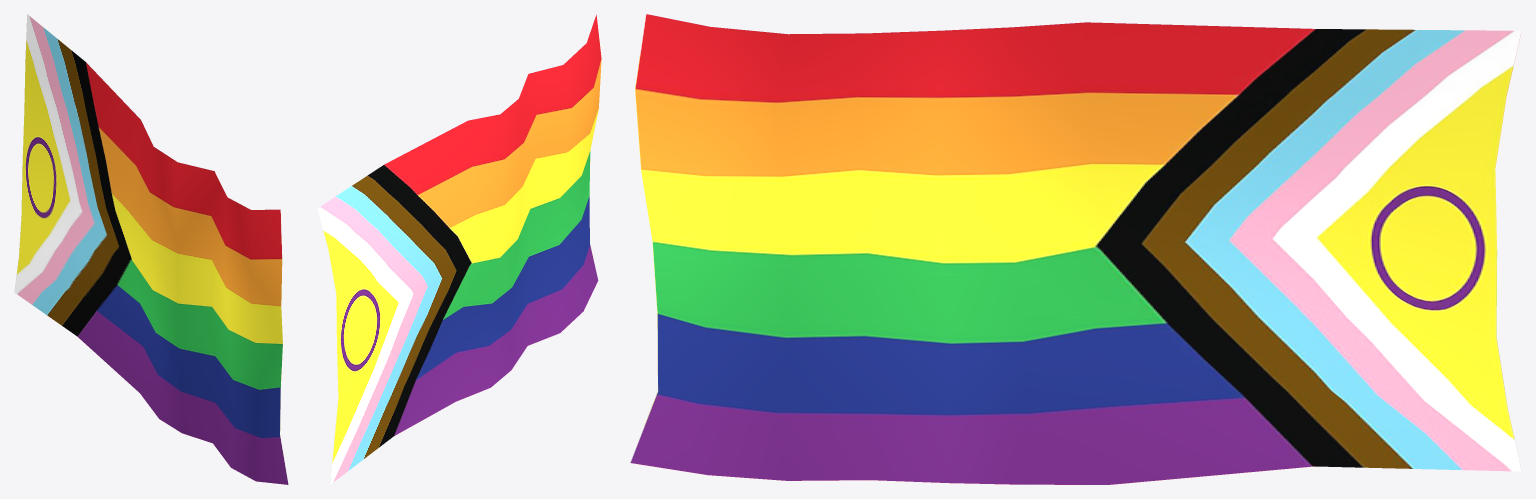
File: event_pride_flag.gltf
3 renders of one model, left to right at view 1: azimuth 30°, elevation 25°; view 2: azimuth 150°, elevation 25°; view 3: azimuth 270°, elevation 25°, orthographic. The views are drawn at different scales.
Parts seen in each view (by area): view 1: pride_flag; view 2: pride_flag; view 3: pride_flag.
Part boxes in pixels (bbox=[...]): pride_flag: bbox=[14, 14, 288, 484]; pride_flag: bbox=[317, 14, 601, 484]; pride_flag: bbox=[630, 14, 1521, 484].
Size of the model in its own units: 0.331 by 2.78 by 4.72.
Materials: 1 (1 with a texture image).
